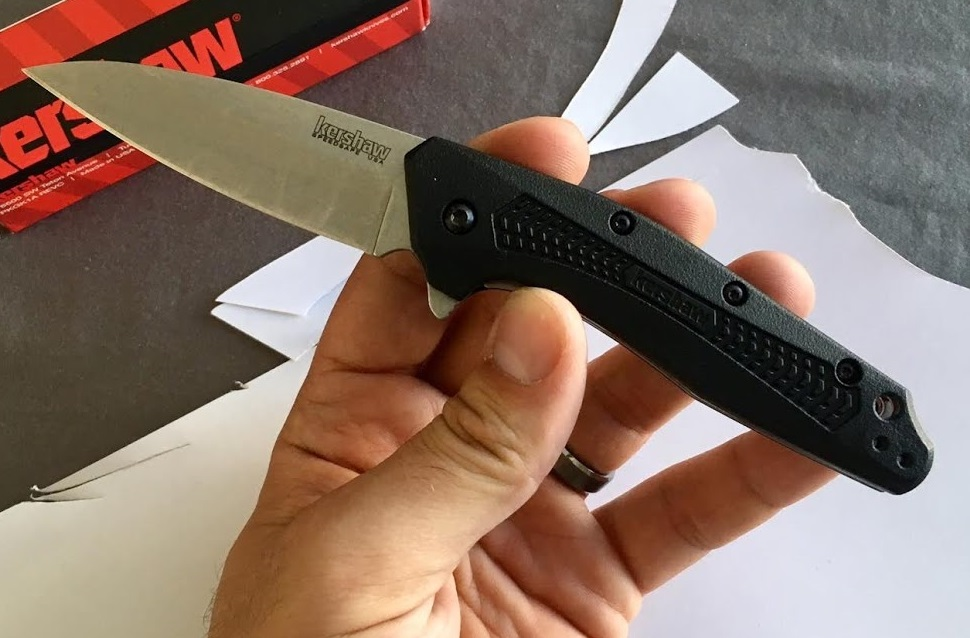knife: (1, 1, 649, 395)
